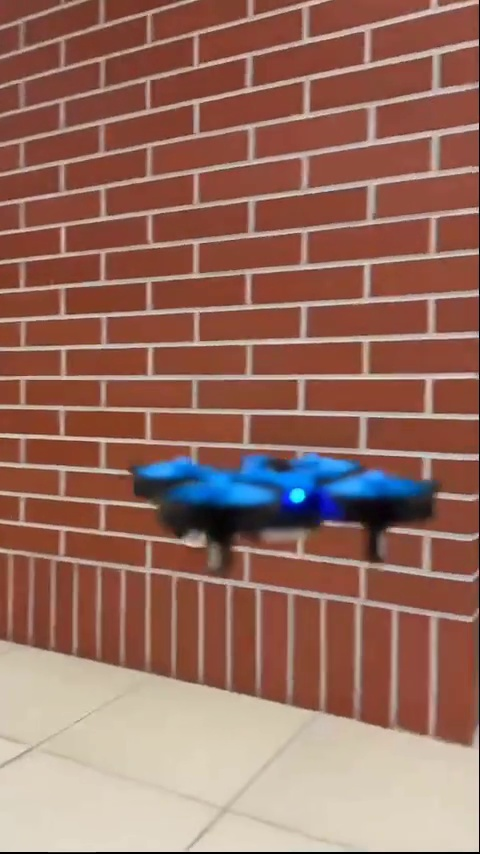drone: (126, 454, 444, 574)
